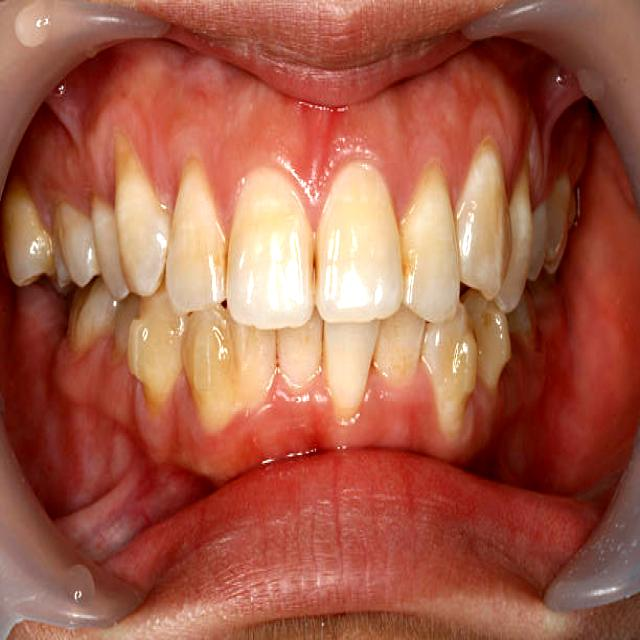gingivitis: (21, 42, 541, 234)
